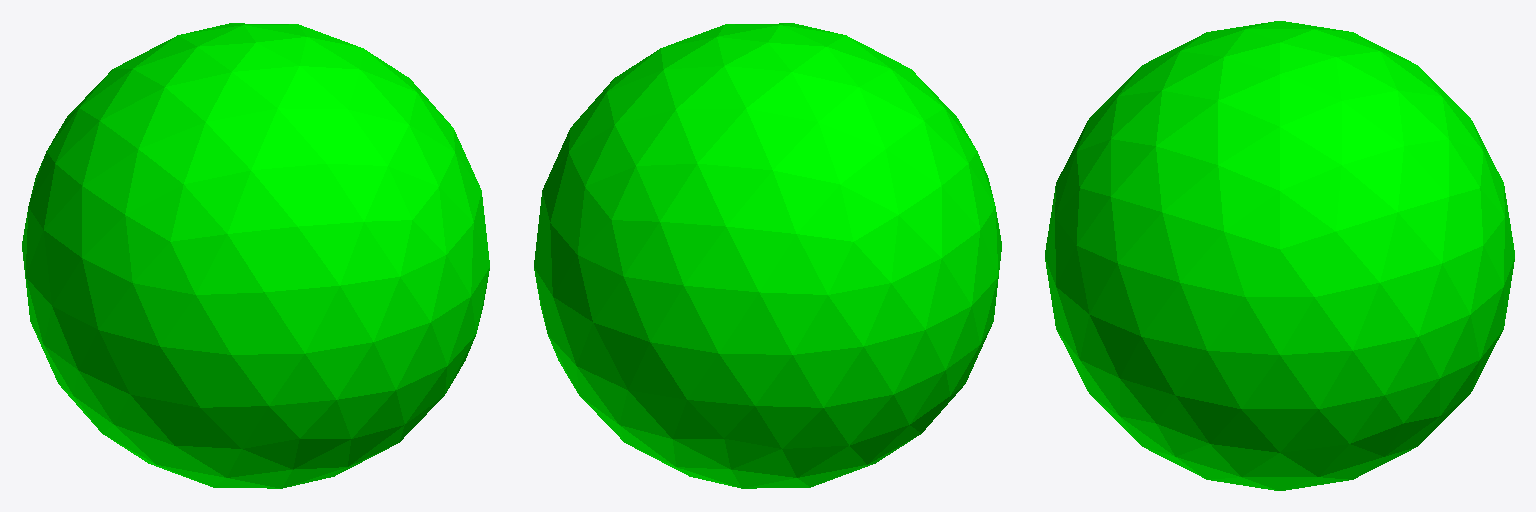
The model's file is StartIndicator.obj.
3 renders of one model, left to right at view 1: azimuth 30°, elevation 25°; view 2: azimuth 150°, elevation 25°; view 3: azimuth 270°, elevation 25°, orthographic.
Parts seen in each view (by area): view 1: StartIndicator; view 2: StartIndicator; view 3: StartIndicator.
Boxes of the visible parts, x1=… form: StartIndicator: x1=22, y1=23, x2=489, y2=488; StartIndicator: x1=534, y1=23, x2=1001, y2=488; StartIndicator: x1=1045, y1=21, x2=1514, y2=490.
Size of the model in its own units: 0.7 by 0.7 by 0.7.